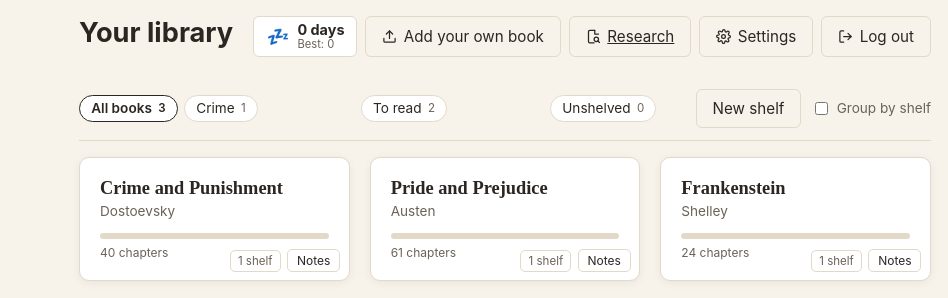
the per-book shelves menu › has a checkbox per shelf, ticked where the book sits
The width and height of the screenshot is (948, 298).
What coordinates should you click on to do the following:
click the button with aria-label "Shelves for Crime and Punishment"
I would click on:
 (255, 261)
Its box is [230, 250, 281, 272].
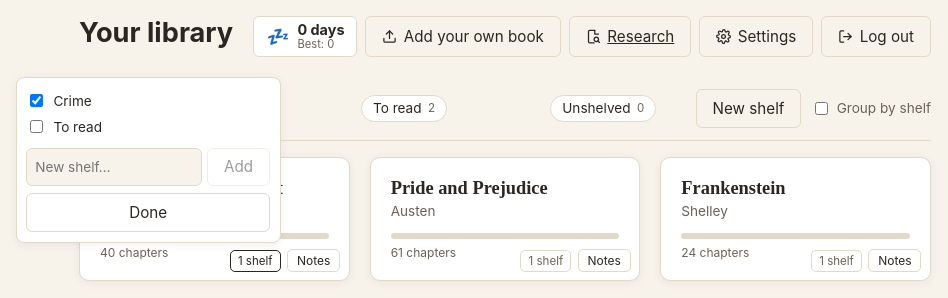
Result: the checkbox labelled "Crime" is checked at [30, 94, 43, 107]
Result: the checkbox labelled "To read" is not checked at [30, 120, 43, 133]
